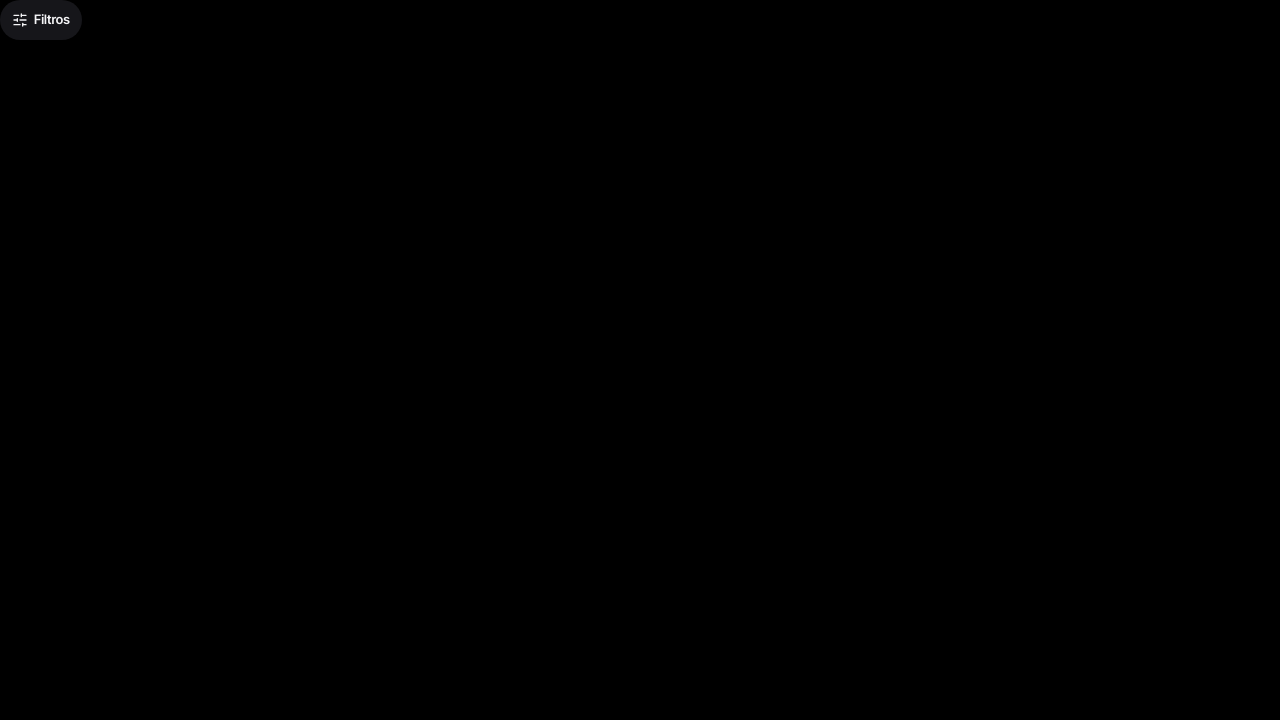
Scenario: AnalyticsFilter › names every field in the sheet by its visible label
The image size is (1280, 720).
What coordinates should you click on to do the following:
click the button "Filtros"
I would click on:
 (41, 20)
Its box is left=0, top=0, right=82, bottom=40.
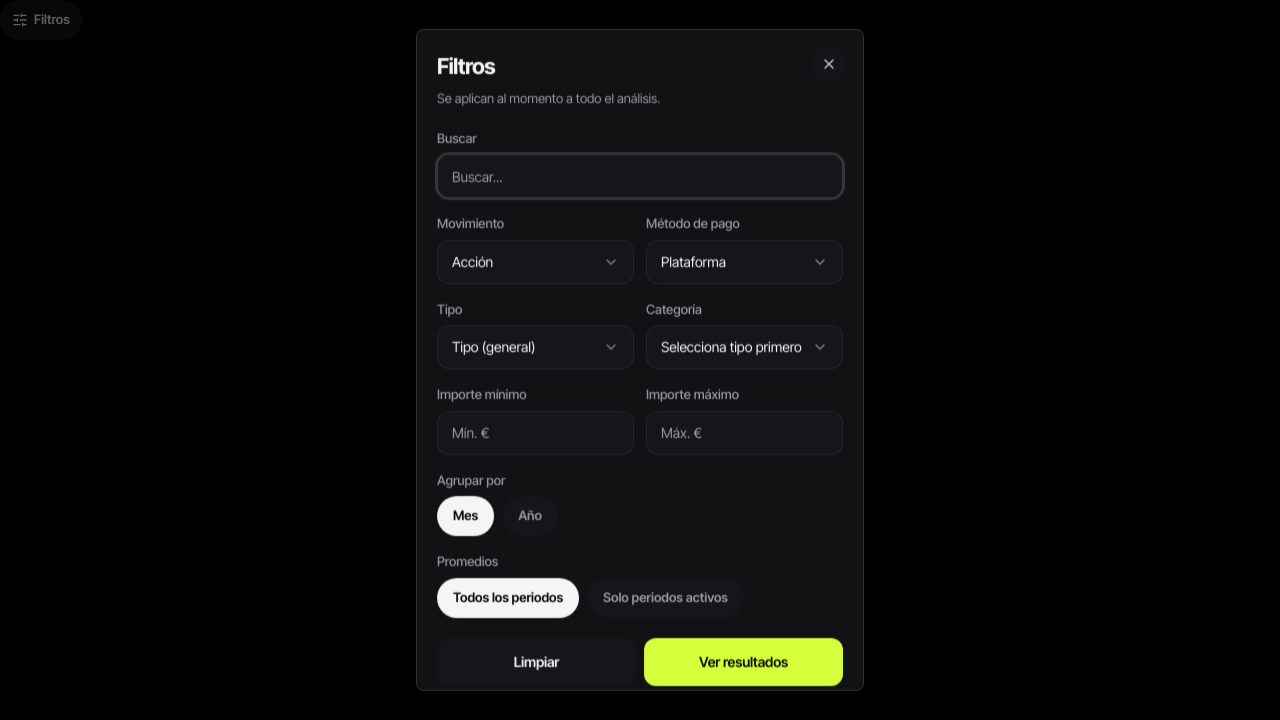
Now the dropdown named "Movimiento" is shown, box left=437, top=239, right=634, bottom=283
Now the dropdown named "Método de pago" is shown, box left=646, top=239, right=843, bottom=283
Now the dropdown labelled "Tipo" is shown, box left=437, top=325, right=634, bottom=369
